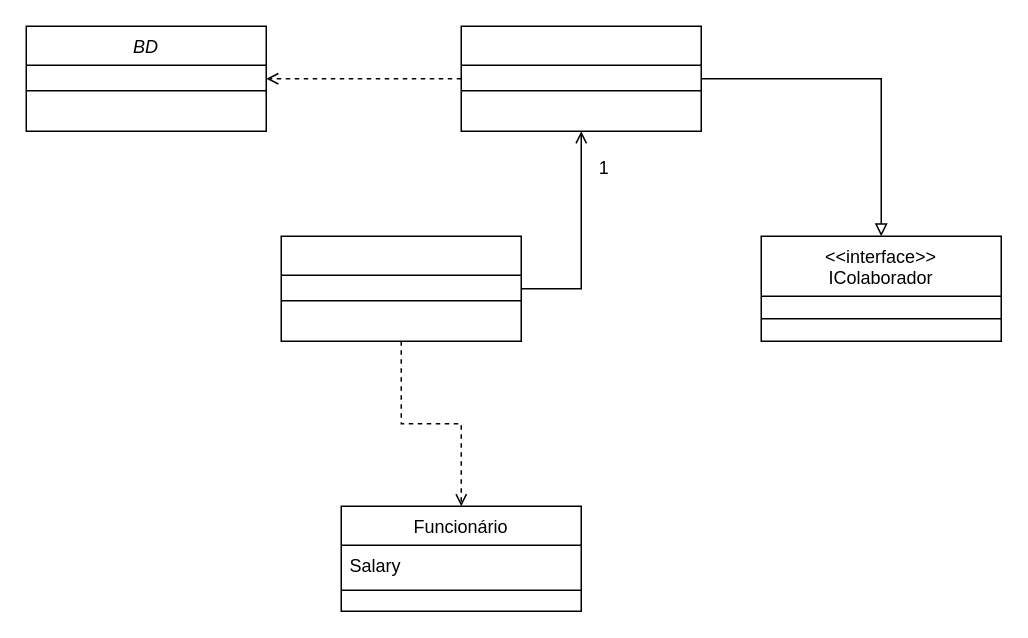
Image size: 1028x638. Some labels were removed from this diagram. Here are the shapes that lost their labels. From the top down, the centre of each, then its label:
pixel 580 78: Colaborador
pixel 400 288: ColaboradorProxy
